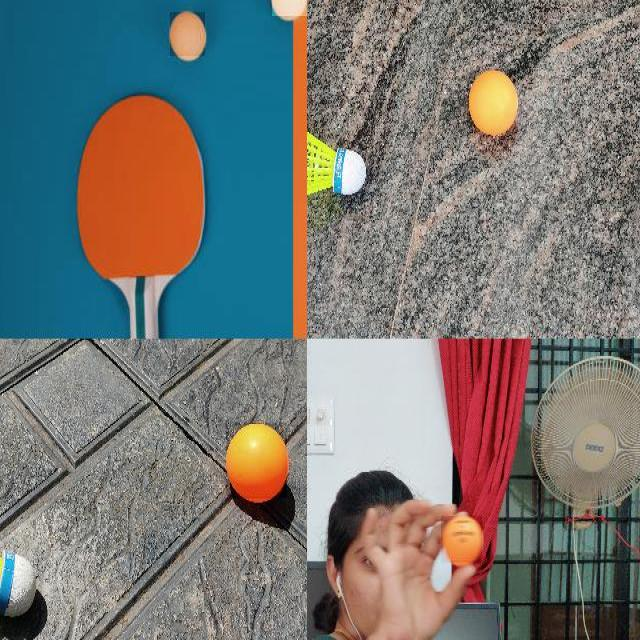ping-pong-ball: (226, 422, 288, 501), (467, 69, 517, 139), (441, 515, 483, 565), (170, 11, 207, 58), (271, 0, 306, 17)
